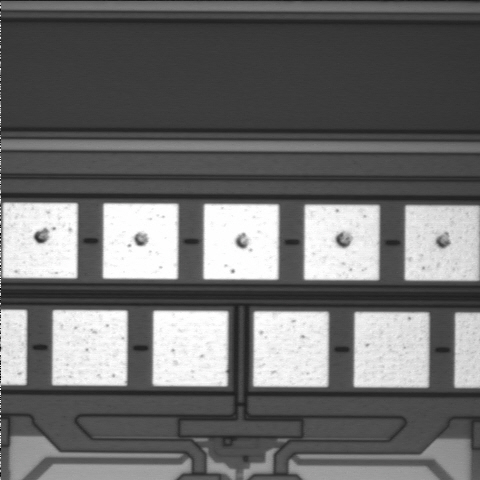pad: (203, 204, 279, 280), (52, 310, 128, 386), (253, 311, 329, 387), (2, 203, 78, 278), (103, 203, 178, 279), (304, 205, 380, 280), (152, 311, 228, 386), (354, 312, 429, 387)
